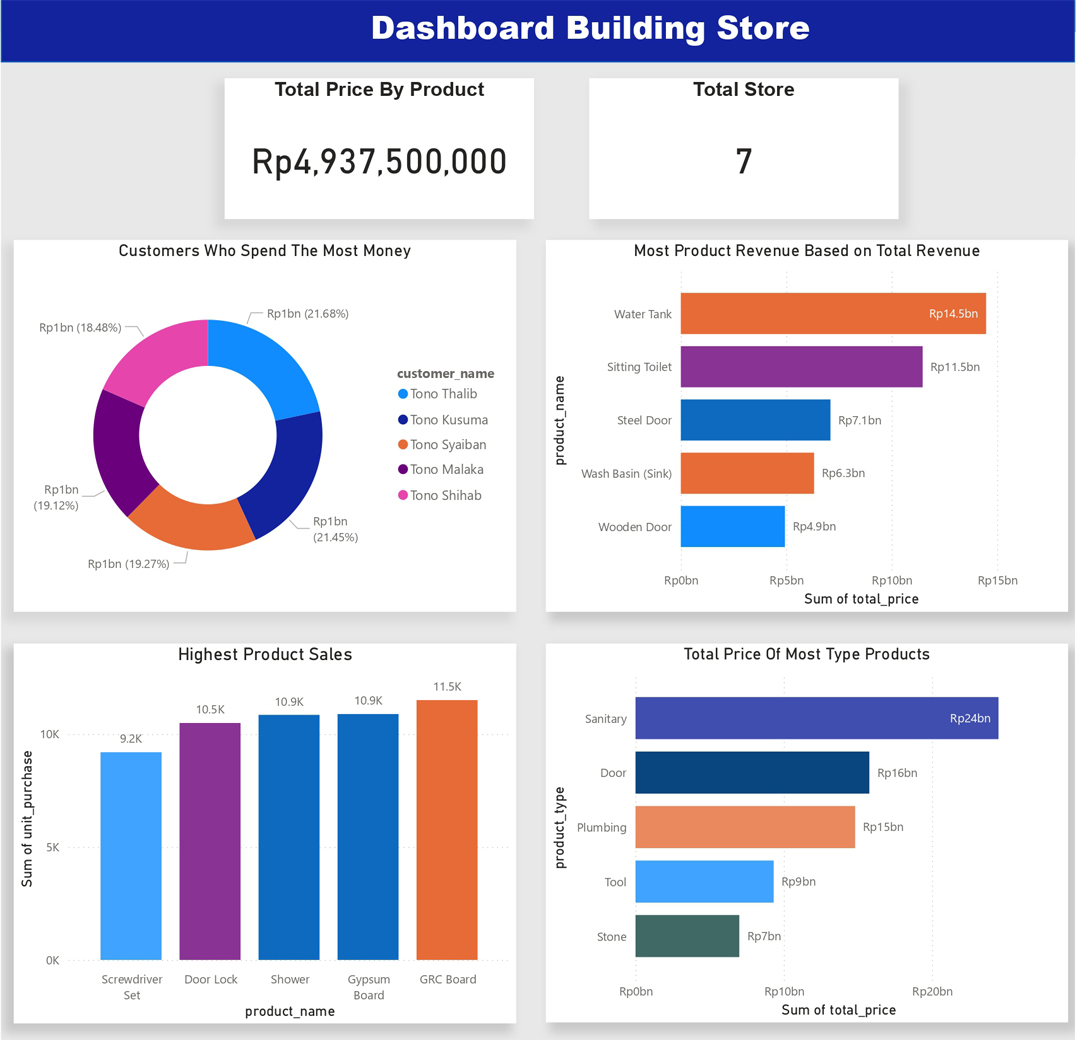

Layout of this report page (visuals, bound fields, positions):
{"tool":"powerbi","page":{"name":"Page 1","canvas":[1090,1056],"ordinal":0},"visuals":[{"type":"donutChart","title":"Customers Who Spend The Most Money","fields":{"Category":["building_store_staging.customer_name"],"Y":["building_store_staging.total_price"]},"box":[12.5,242.5,510,375],"z":0},{"type":"clusteredBarChart","title":"Most Product Revenue Based on Total Revenue","fields":{"Category":["building_store_staging.product_name"],"Y":["building_store_staging.total_price"]},"box":[553.1,242.5,530,375],"z":1000},{"type":"clusteredColumnChart","title":"Highest Product Sales","fields":{"Category":["building_store_staging.product_name"],"Y":["building_store_staging.unit_purchase"]},"box":[13.3,650,510,383.3],"z":2000},{"type":"clusteredBarChart","title":"Total Price Of Most Type Products","fields":{"Category":["building_store_staging.product_type"],"Y":["building_store_staging.total_price"]},"box":[553.1,650,530,381.7],"z":3000},{"type":"shape","box":[0,0,1090,64.3],"z":4000},{"type":"textbox","box":[105.7,0,984.3,64.3],"z":5000},{"type":"kpi","title":"Total Price By Product","fields":{"Indicator":["building_store_staging.total_price"],"TrendLine":["building_store_staging.product_name"]},"box":[226.8,79.8,314,142],"z":6000},{"type":"kpi","title":"Total Store","fields":{"TrendLine":["building_store_staging.product_name"],"Indicator":["building_store_staging.total_store"]},"box":[596.8,79.8,314,142],"z":7000}]}

Visuals, with their boxes in screenshot pixels (x1, y1, x2, y2), scaled from the page's 1090x1056 canvas onto the 1076x1040 screenshot:
"Customers Who Spend The Most Money" donutChart: detection(12, 239, 516, 608)
"Most Product Revenue Based on Total Revenue" clusteredBarChart: detection(546, 239, 1069, 608)
"Highest Product Sales" clusteredColumnChart: detection(13, 640, 517, 1018)
"Total Price Of Most Type Products" clusteredBarChart: detection(546, 640, 1069, 1016)
shape: detection(0, 0, 1075, 63)
textbox: detection(104, 0, 1075, 63)
"Total Price By Product" kpi: detection(224, 79, 534, 218)
"Total Store" kpi: detection(589, 79, 899, 218)
